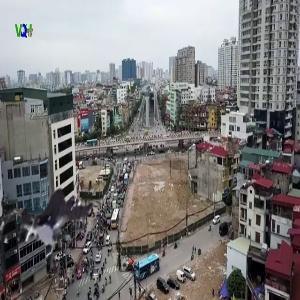drone: (7, 155, 110, 258)
